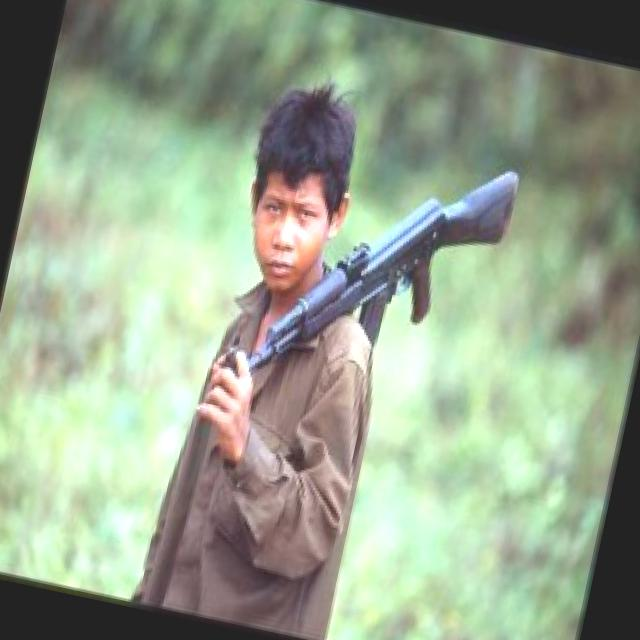long weapon: (188, 140, 544, 447)
